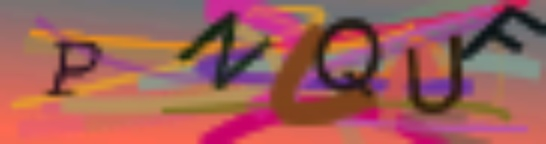F: (459, 4, 546, 65)
N: (173, 8, 276, 95)
P: (44, 39, 106, 98)
Q: (312, 13, 384, 100)
U: (402, 30, 466, 118)
